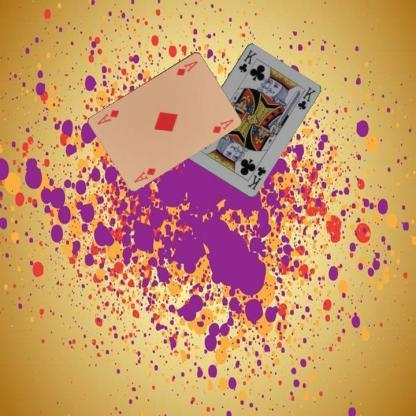Ad: (174, 58, 199, 77), (132, 165, 157, 184)
Kc: (235, 46, 258, 74), (245, 164, 268, 192)
